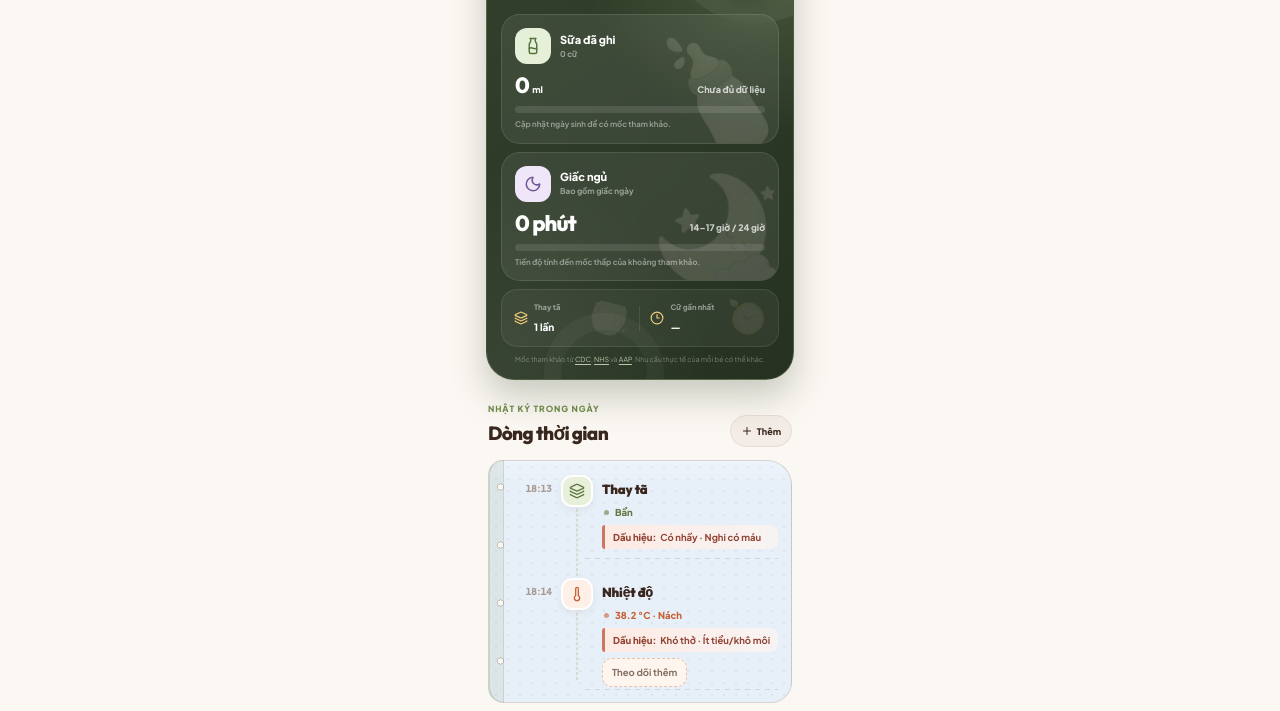
Scenario: BabyHomeView › shows associated diaper and temperature signs in timeline items and previews
This screenshot has width=1280, height=711.
(page scrolled)
Expected: the heading "Dòng thời gian" is shown, [488,420,608,447]
Expected: the text with class "journal-story-facts-value" reads "Bẩn", [615,506,633,518]
What coordinates should you click on to do the following:
click the button "Nhiệt độ"
I would click on:
 (690, 636)
Its box is [602,585,778,687].
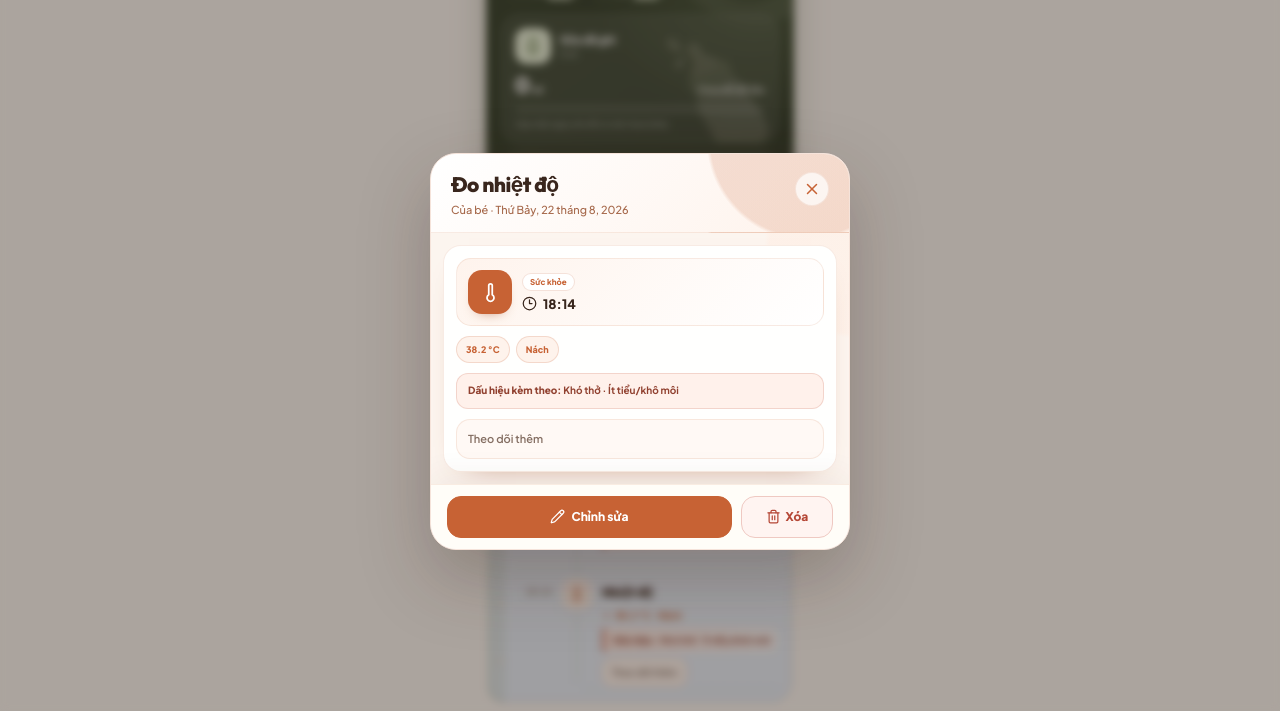
Expected: the dialog "Đo nhiệt độ" does not show "2 triệu chứng", [430,152,850,550]
Expected: the dialog "Đo nhiệt độ" shows "Khó thở", [563,384,679,396]
Expected: the dialog "Đo nhiệt độ" shows "Ít tiểu/khô môi", [563,384,679,396]
